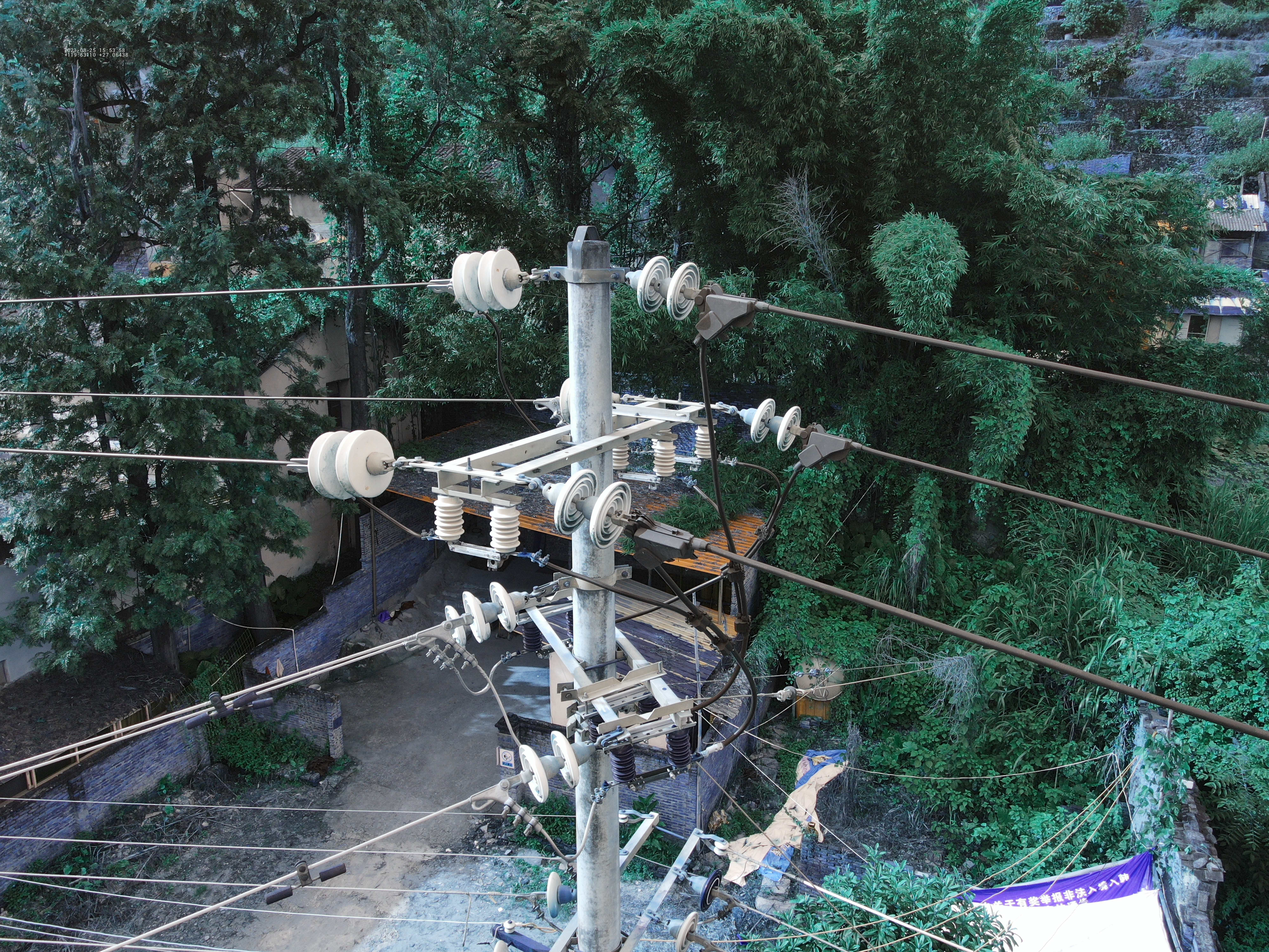severe_soiling_no_discharge_whole: (540, 469, 636, 551), (306, 427, 396, 501), (625, 254, 700, 323), (451, 248, 527, 314), (737, 394, 804, 452)
